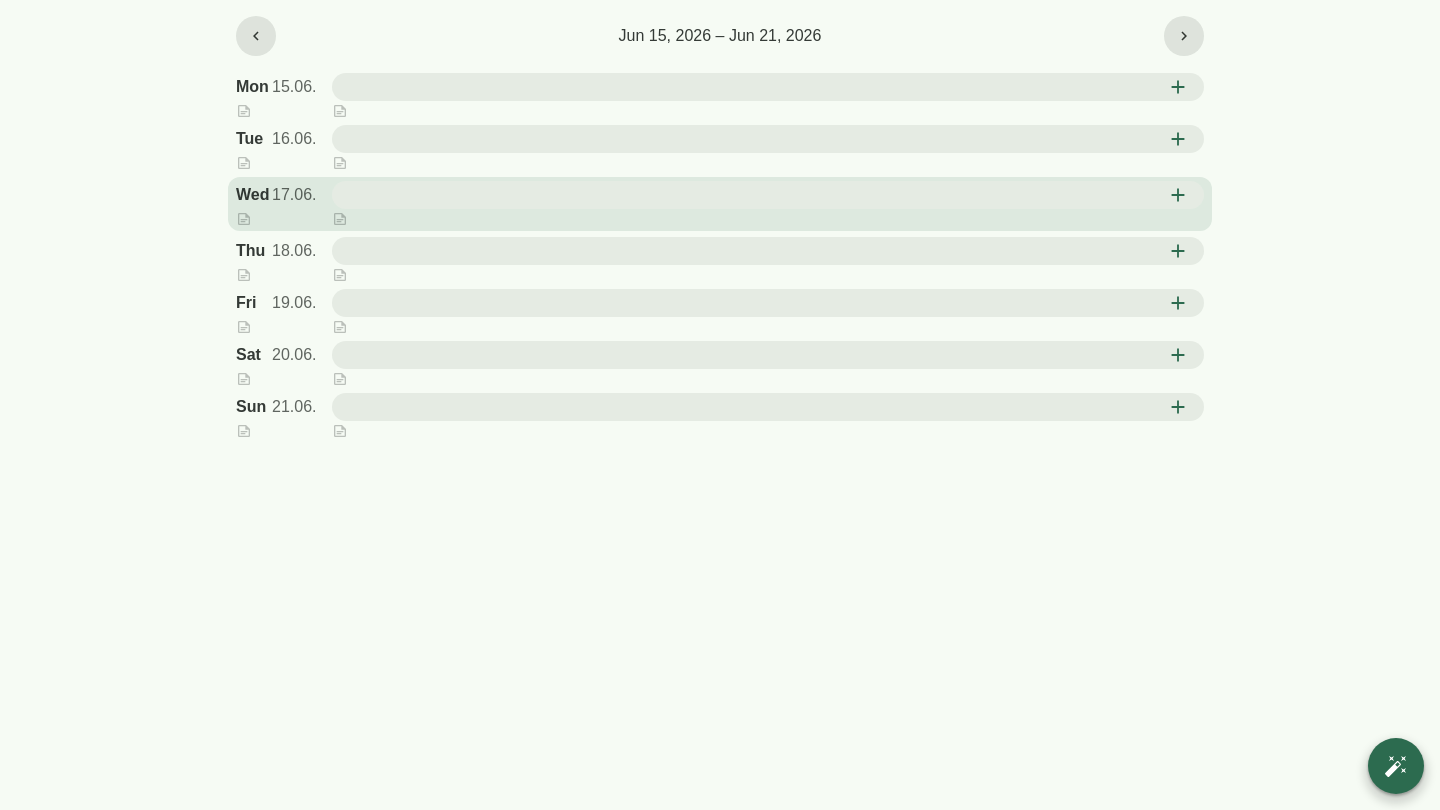
Test case: MealPlanView suggestion mode › disables the label toggle when no labels exist
Click the button with test id "suggest-meals-fab": x=1396, y=766 top-left (1368, 738), bottom-right (1424, 794)
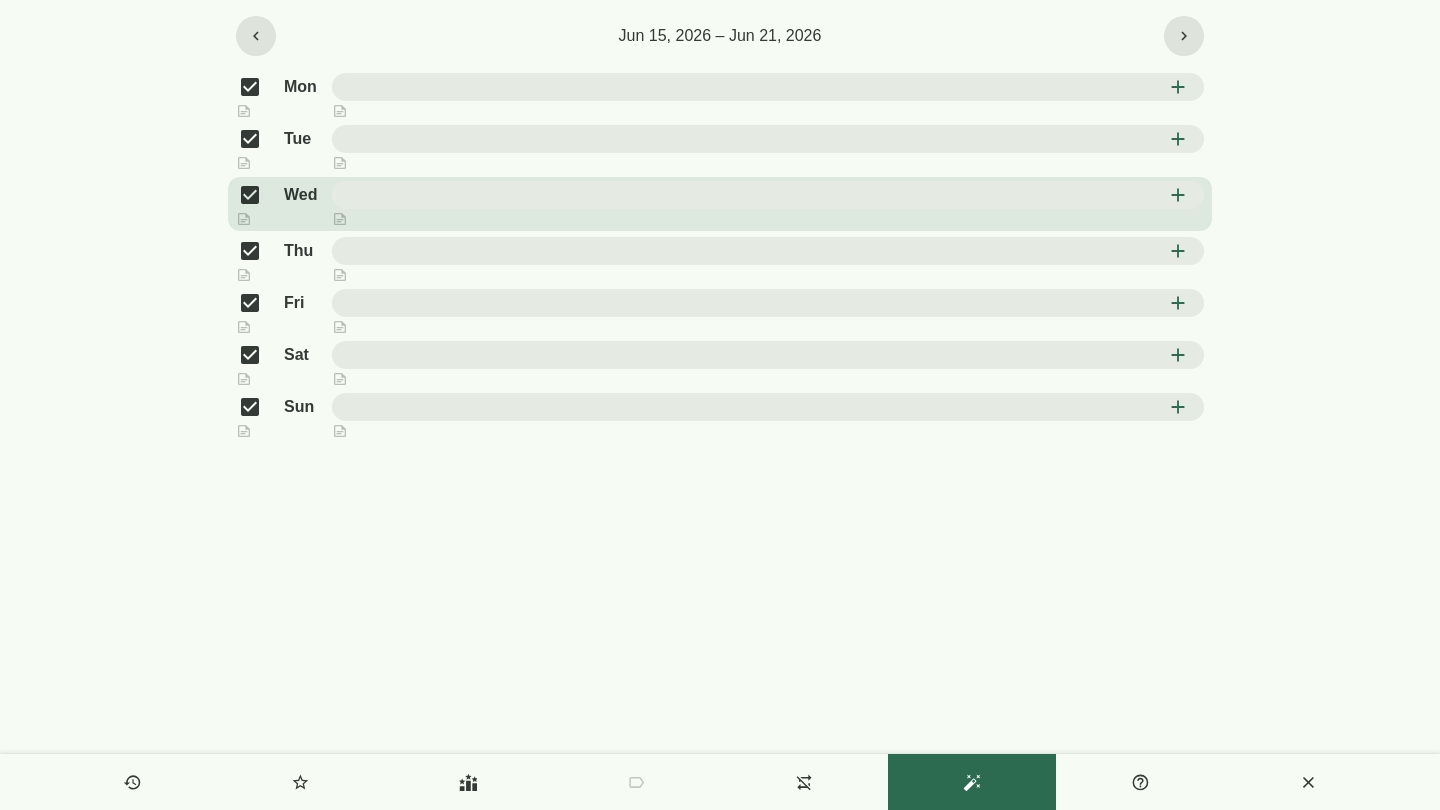
Check: the button with test id "filter-labels" is disabled, box top-left (552, 754), bottom-right (720, 809)
